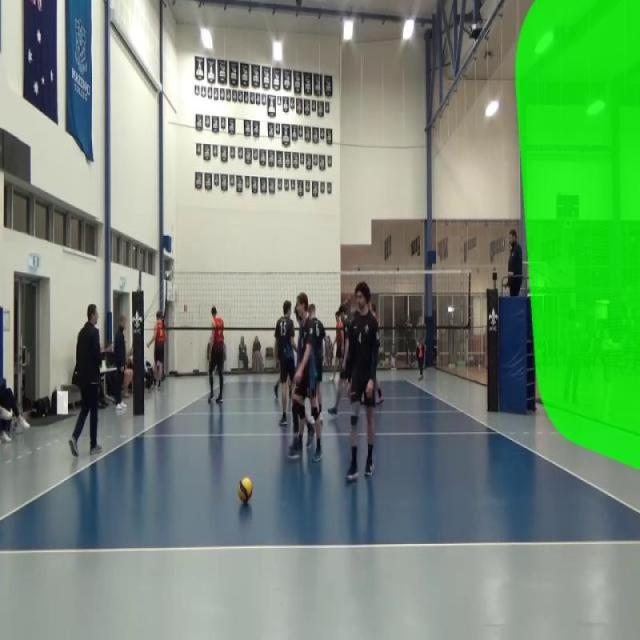volleyball: (237, 474, 254, 506)
